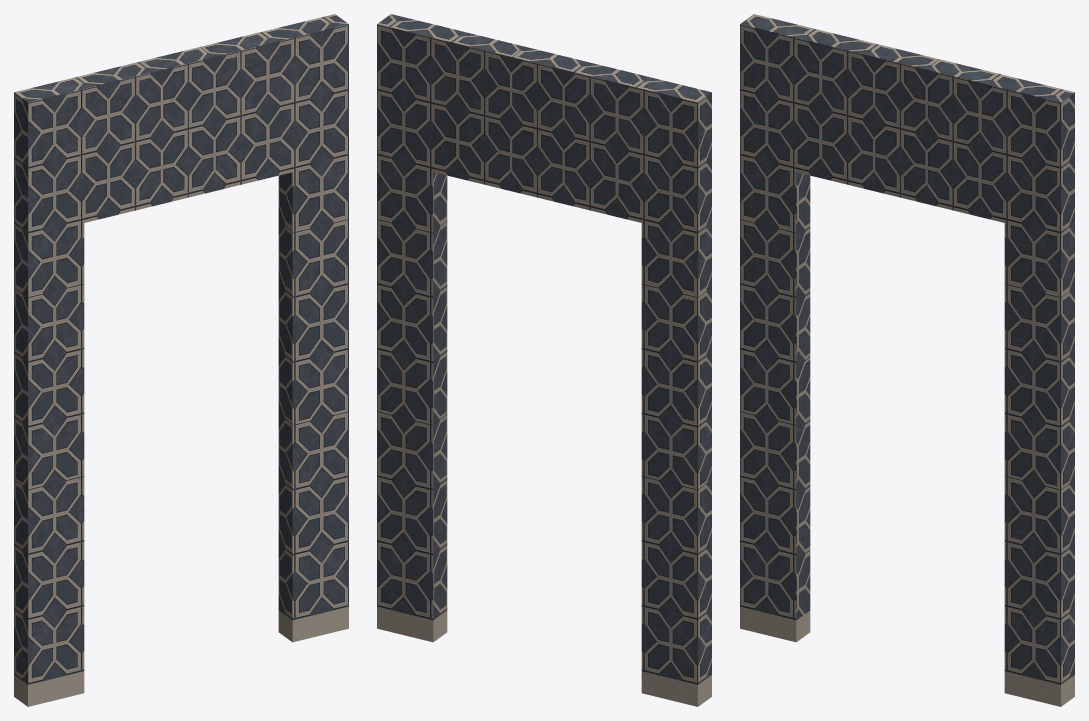
File: ARC0210010.fbx
The picture shows the model from 3 angles, left to right: view 1: azimuth 30°, elevation 25°; view 2: azimuth 150°, elevation 25°; view 3: azimuth 330°, elevation 25°; orthographic projection.
Visible parts, largest first — view 1: smARC0210010; view 2: smARC0210010; view 3: smARC0210010.
Part boxes in pixels (<box>): smARC0210010: <box>14,14,348,706</box>; smARC0210010: <box>377,14,711,706</box>; smARC0210010: <box>740,14,1074,706</box>.
Size of the model in its own units: 182 by 328 by 13.67.
1 material, 1 textured.
